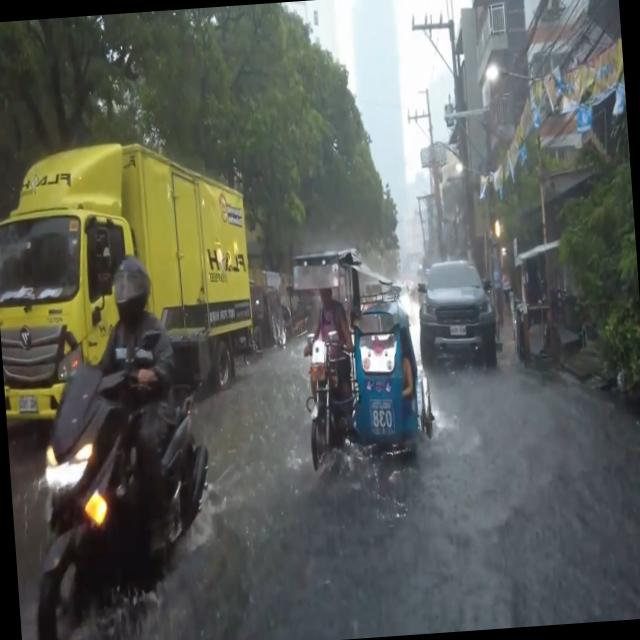full: (110, 250, 153, 322)
